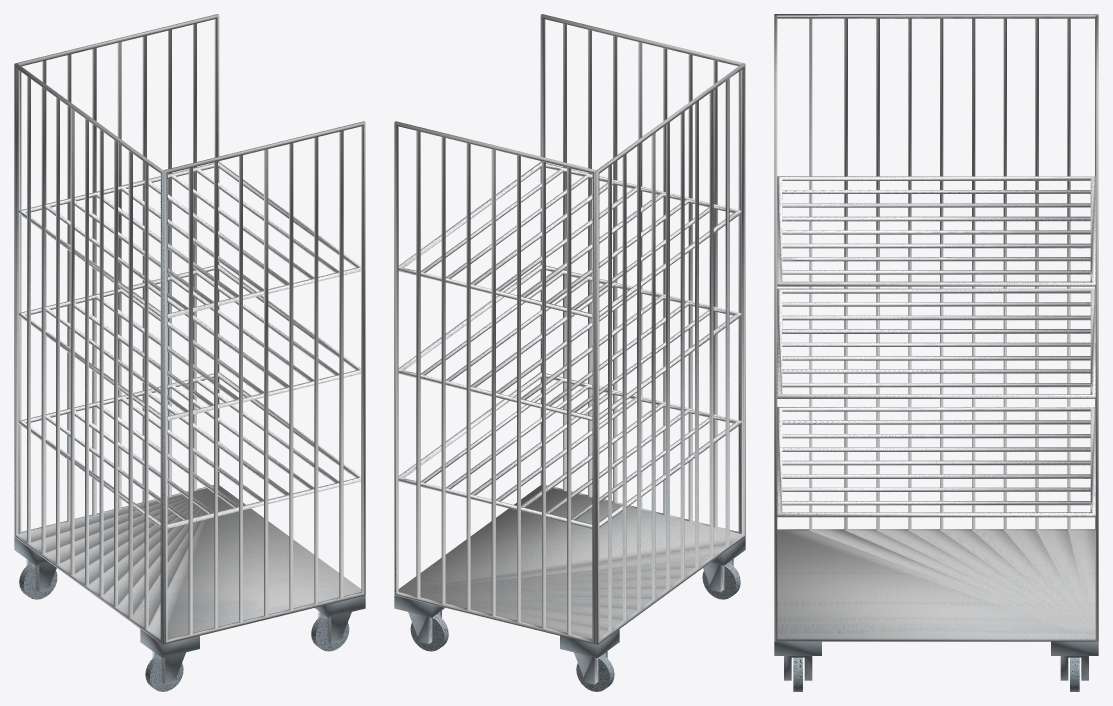
File: cage_trolley.fbx
3 views of the same model, side by side, from view 1: azimuth 30°, elevation 25°; view 2: azimuth 150°, elevation 25°; view 3: azimuth 270°, elevation 25° (orthographic). The views are drawn at different scales.
Visible parts, largest first — view 1: roll_6_1, cot__de_roll1, cot__de_roll2, etage3, etage1, etage2, roue1, roue4, roue2; view 2: roll_6_1, cot__de_roll2, cot__de_roll1, etage3, etage1, etage2, roue2, roue3, roue1; view 3: roll_6_1, etage1, etage2, etage3, cot__de_roll1, cot__de_roll2, roue3, roue4.
Boxes of the visible parts, x1,y1,x2,y2 form: roll_6_1: [14, 63, 361, 644]; cot__de_roll1: [163, 121, 365, 644]; cot__de_roll2: [17, 14, 219, 533]; etage3: [18, 162, 361, 318]; etage1: [18, 372, 361, 528]; etage2: [18, 264, 361, 420]; roue1: [140, 629, 199, 691]; roue4: [311, 595, 365, 651]; roue2: [14, 537, 57, 599]; roll_6_1: [398, 63, 745, 644]; cot__de_roll2: [394, 121, 596, 644]; cot__de_roll1: [540, 14, 742, 533]; etage3: [398, 162, 741, 318]; etage1: [398, 372, 741, 528]; etage2: [398, 264, 741, 420]; roue2: [560, 629, 619, 691]; roue3: [394, 595, 448, 651]; roue1: [702, 537, 745, 599]; roll_6_1: [774, 14, 1098, 641]; etage1: [777, 407, 1095, 517]; etage2: [777, 288, 1095, 398]; etage3: [777, 176, 1095, 286]; cot__de_roll1: [774, 15, 777, 641]; cot__de_roll2: [1095, 15, 1098, 641]; roue3: [1051, 641, 1098, 691]; roue4: [774, 641, 821, 691].
Bounding box in the file's own units: 82.49 × 201 × 102.
